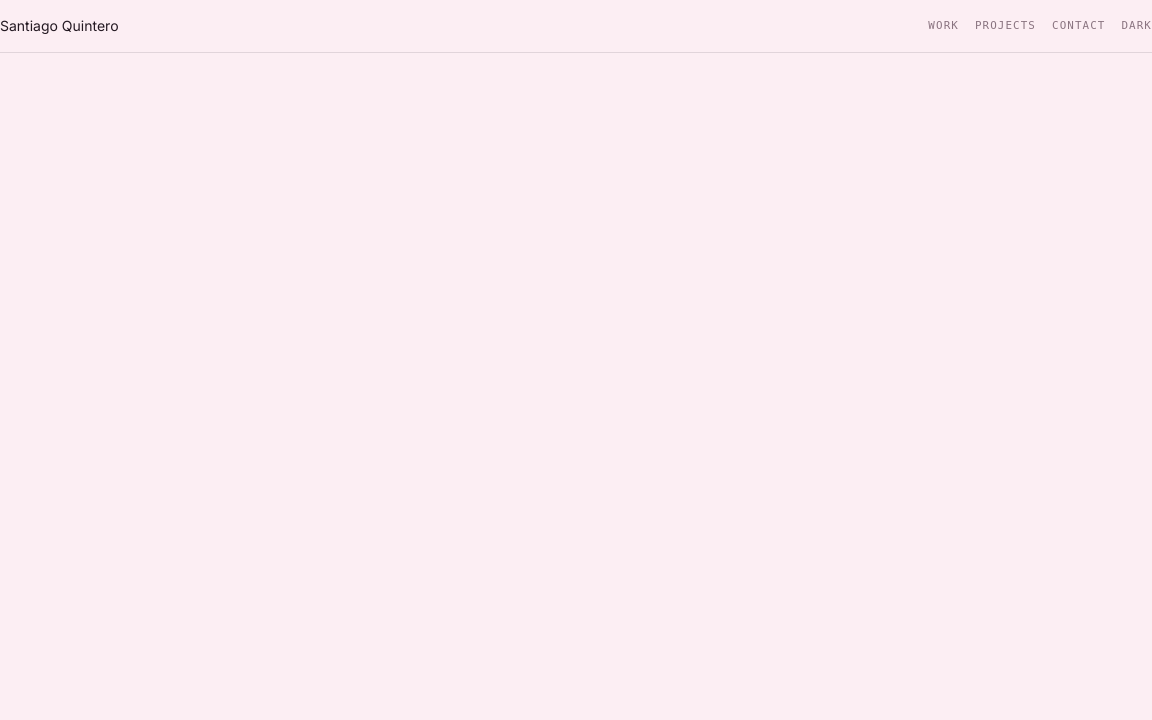
Test: Nav › toggles the theme label when clicked
Click the button: (1137, 26) [1122, 18, 1151, 34]
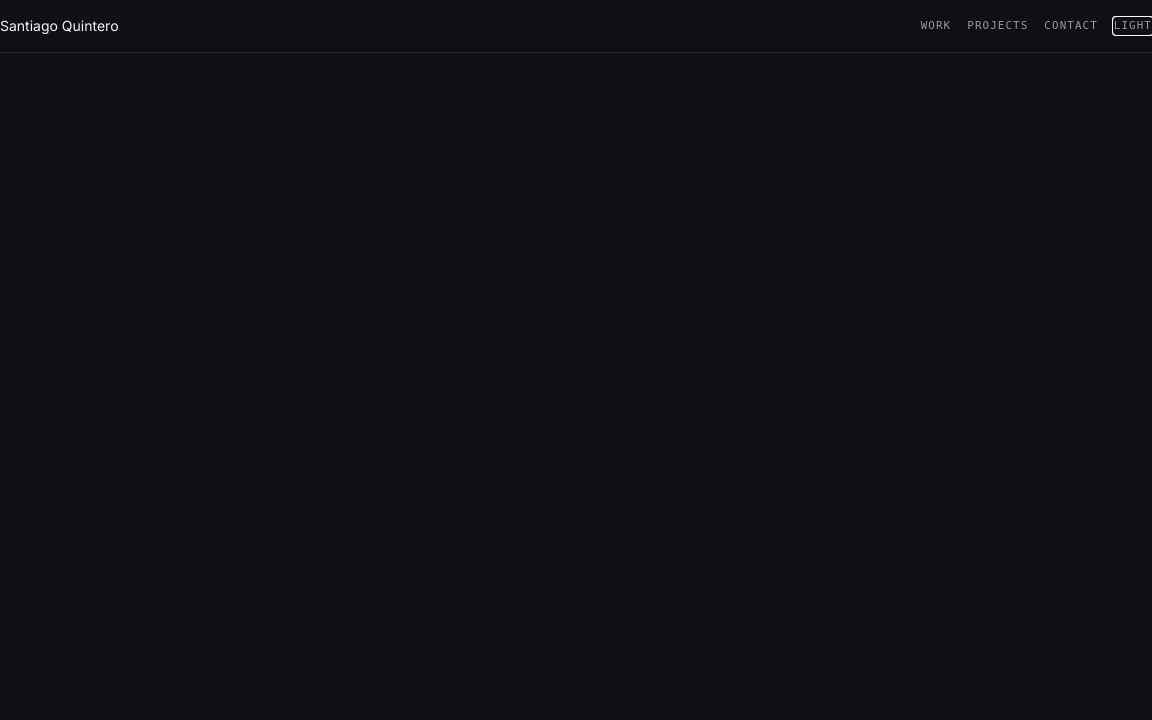
Result: the button "Dark" no longer shows "Dark"
